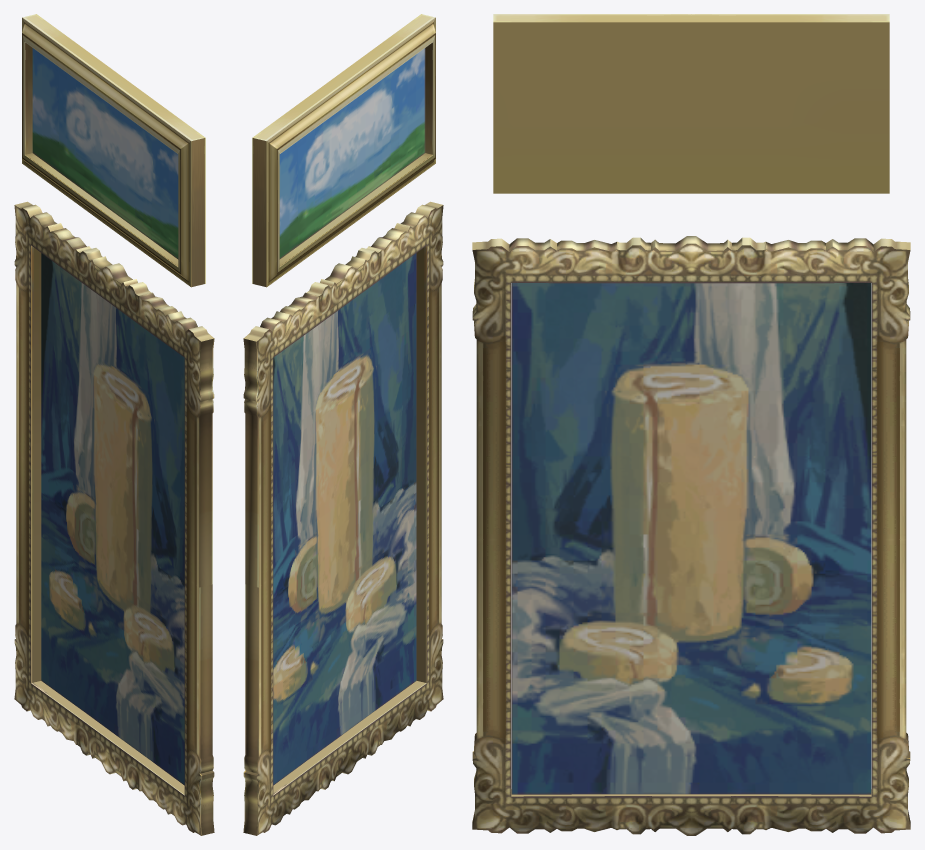
Rendered from my_teaparty_01_picture_01.glb.
3 views of the same model, side by side, from view 1: azimuth 30°, elevation 25°; view 2: azimuth 150°, elevation 25°; view 3: azimuth 270°, elevation 25° (orthographic). The views are drawn at different scales.
Parts seen in each view (by area): view 1: my_teaparty_01_picture_01; view 2: my_teaparty_01_picture_01; view 3: my_teaparty_01_picture_01.
Part boxes in pixels (x1,y1,x2,y2): my_teaparty_01_picture_01: (14, 14, 214, 835); my_teaparty_01_picture_01: (243, 14, 443, 835); my_teaparty_01_picture_01: (472, 14, 910, 835).
Bounding box in the file's own units: 0.000613 × 0.0207 × 0.0101.
1 material, 1 textured.
